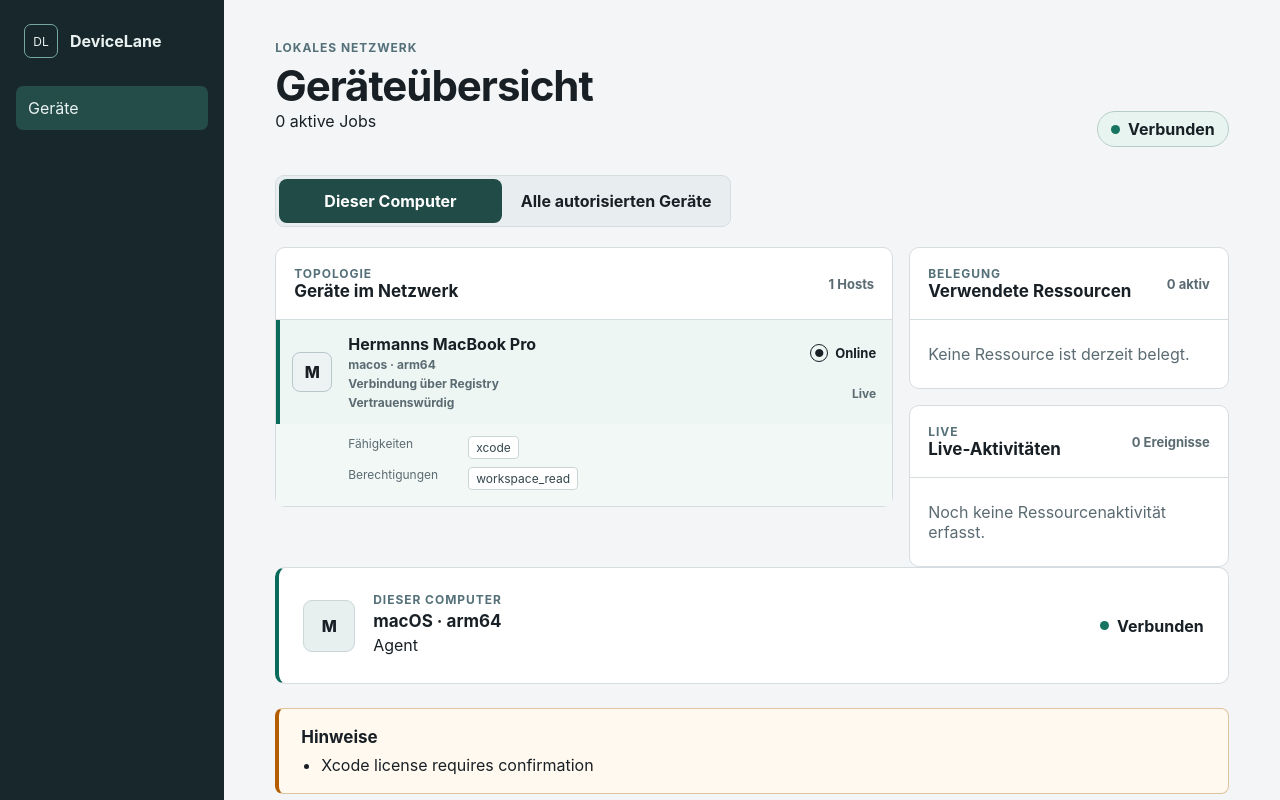
Test case: DeviceLane desktop foundation › does not retain mesh activity when returning to the local scope
Step 1. Click the tab "Alle autorisierten Geräte" → (616, 201), box x1=505 y1=179 x2=727 y2=223
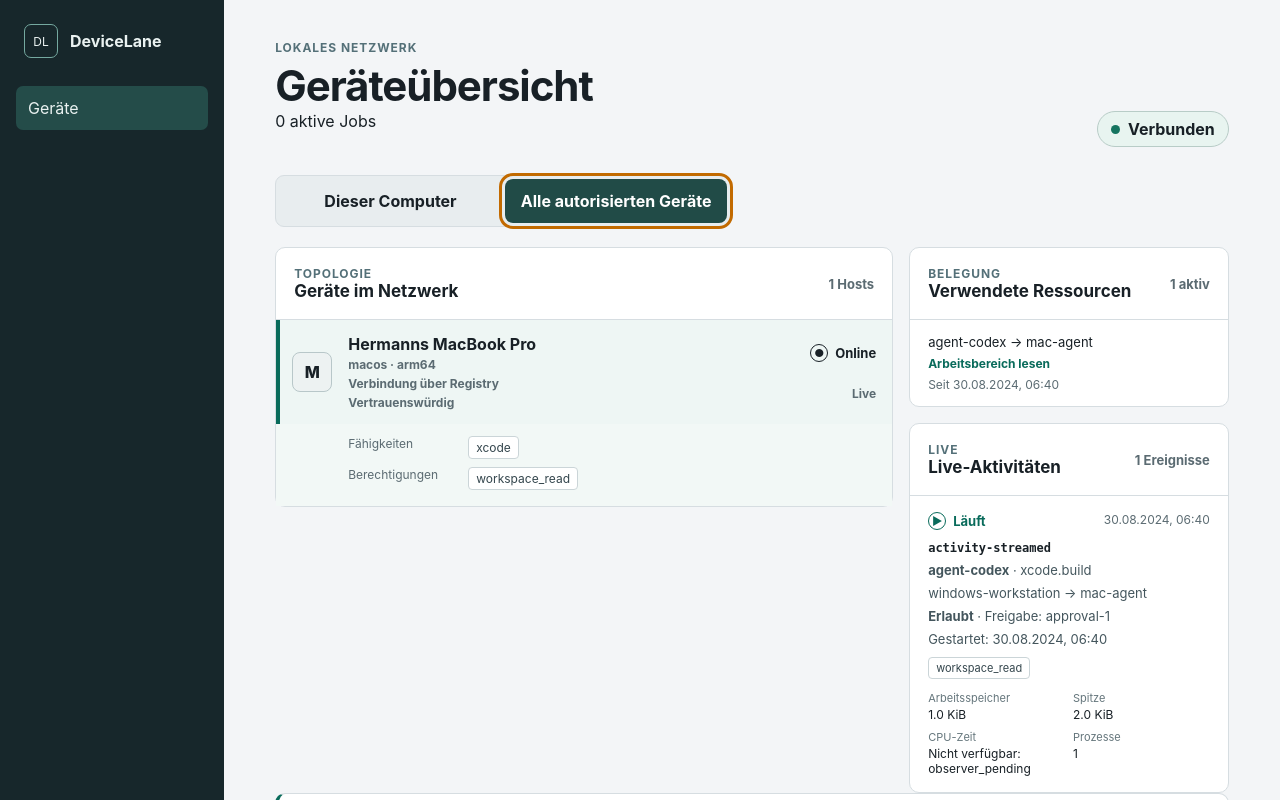
Check: the text "activity-streamed" is shown, box x1=928 y1=541 x2=1051 y2=555
Step 2. Click the tab "Dieser Computer" → (390, 201), box x1=279 y1=179 x2=502 y2=223
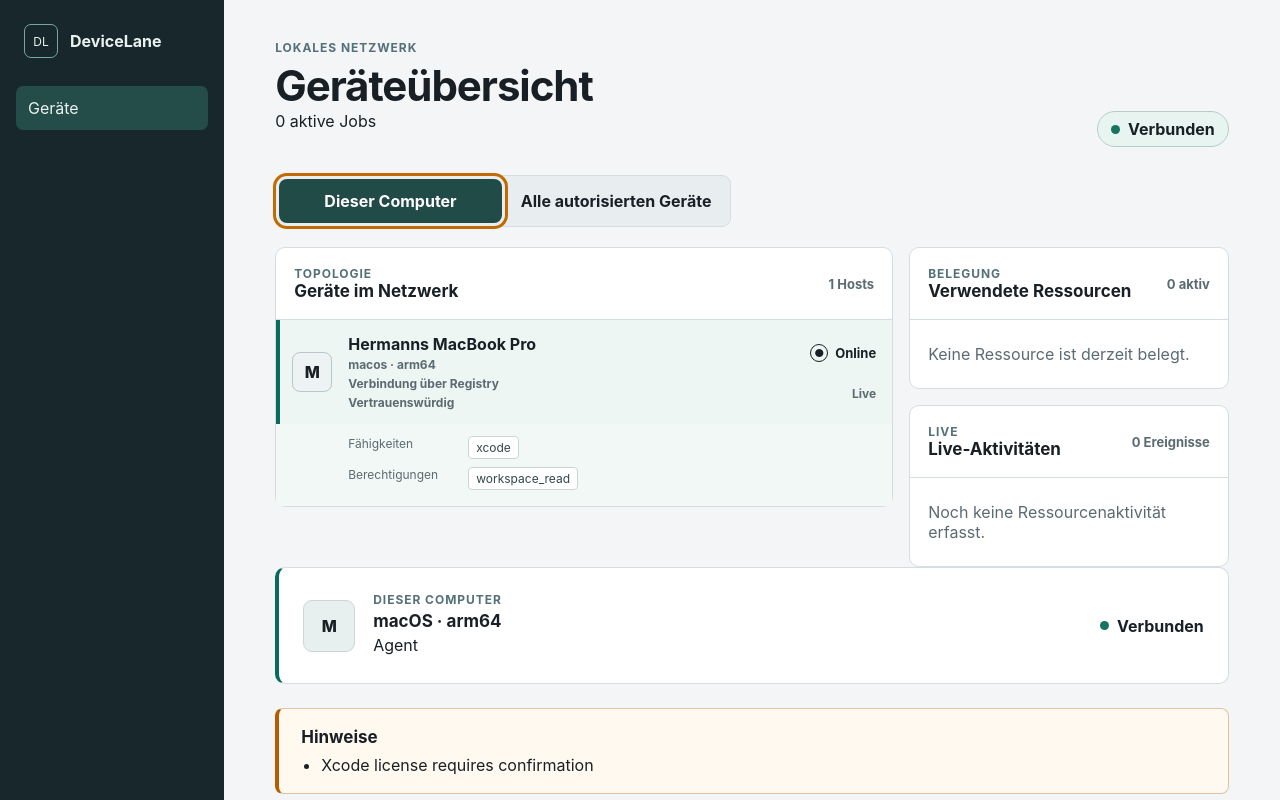
Check: the text "activity-streamed" is gone
